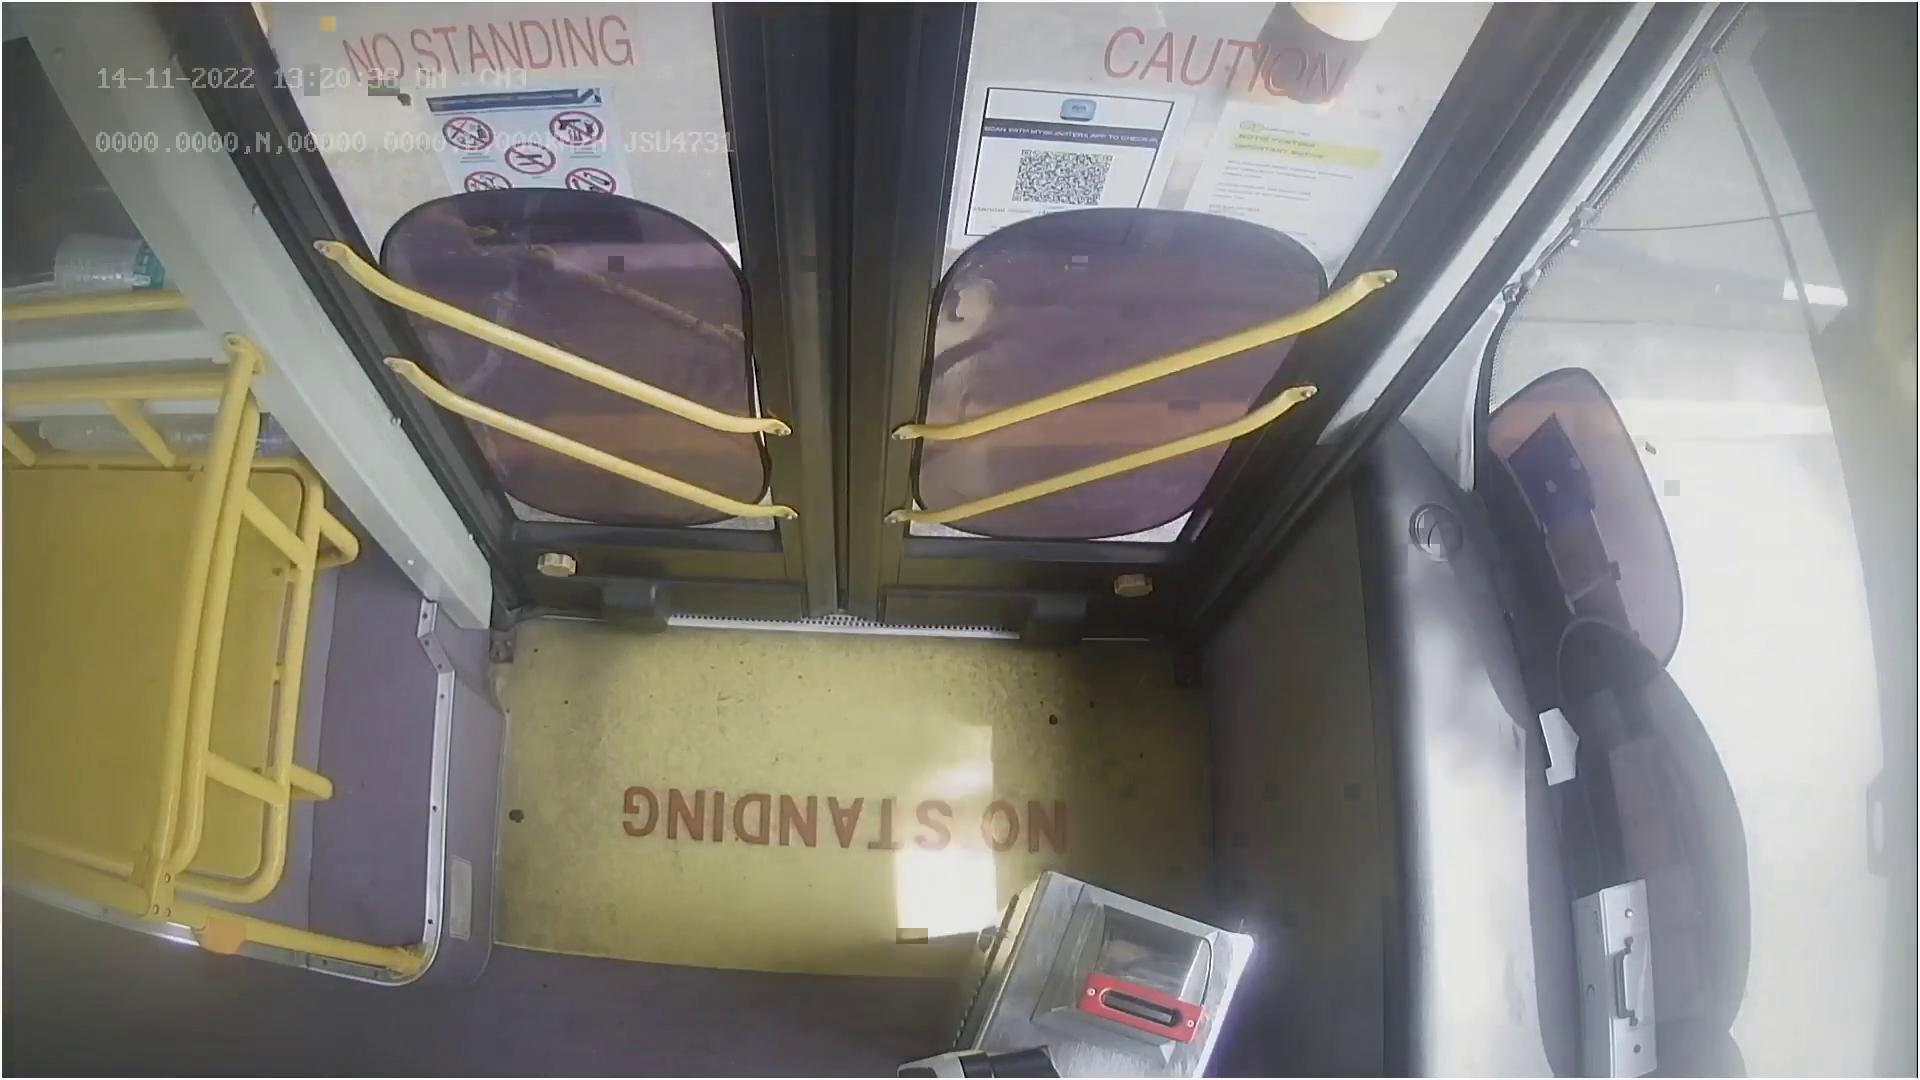close: (295, 0, 1441, 169)
